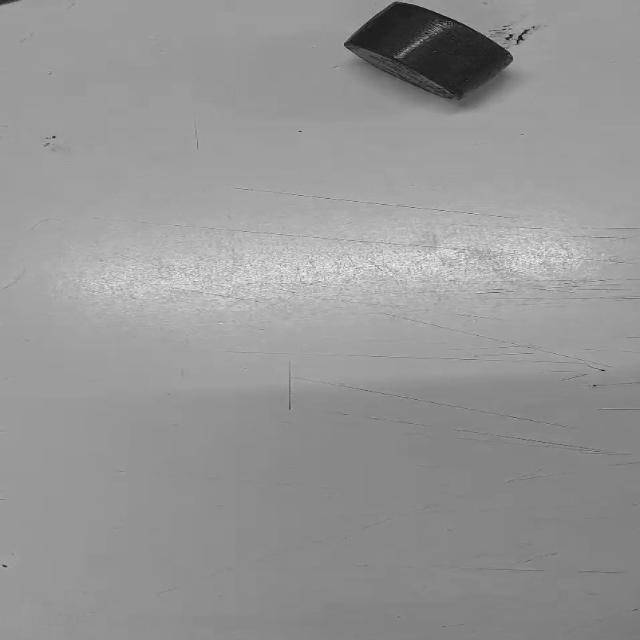rcircle: (339, 0, 520, 104)
